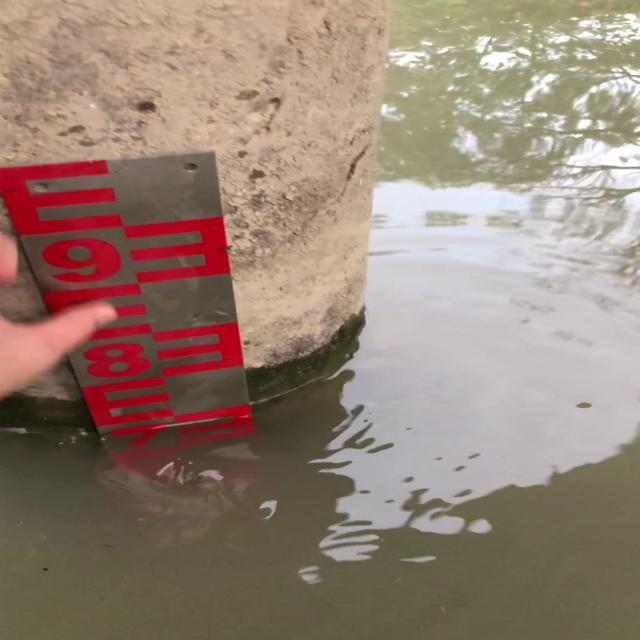ruler: (0, 142, 263, 427)
value: (18, 227, 139, 295), (73, 336, 158, 386)
